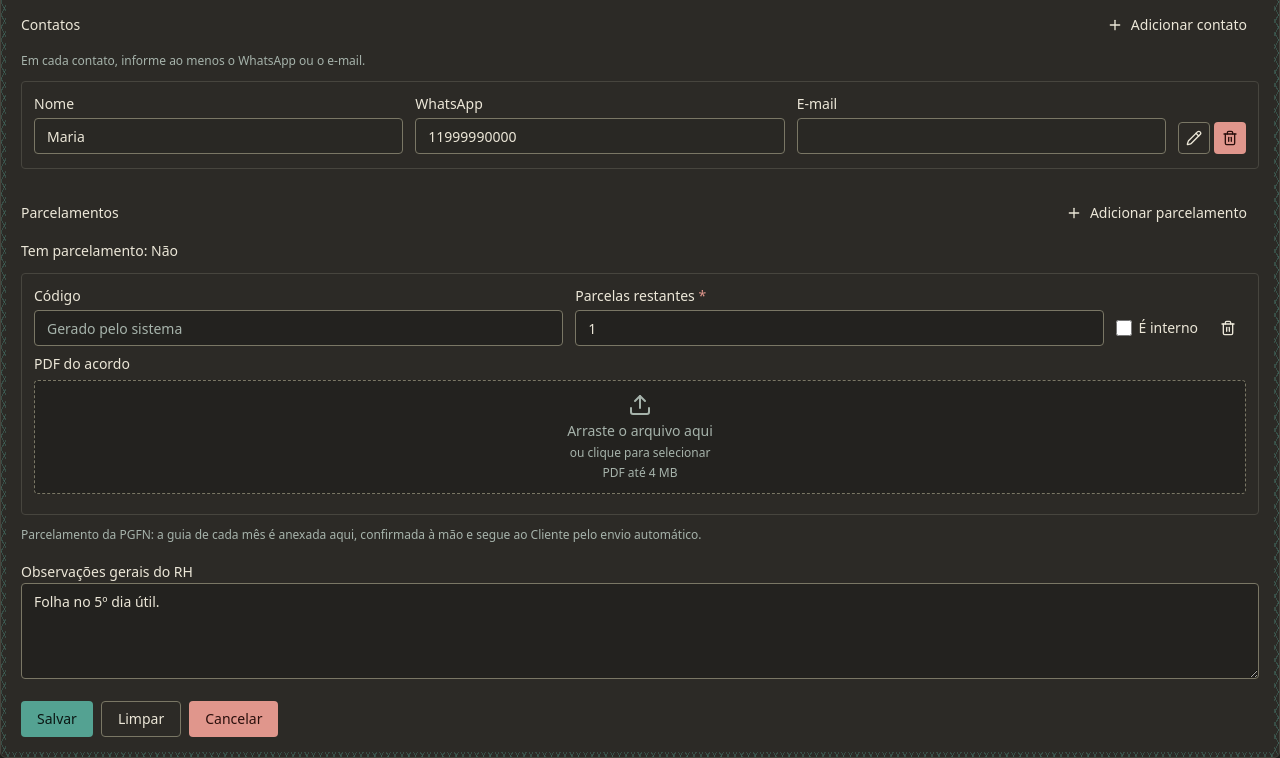
Test: EditarCadastroRhContainer › mostra a recusa do servidor e não navega
(page scrolled)
Click the button "Salvar": (57, 719) [21, 701, 93, 737]
(page scrolled)
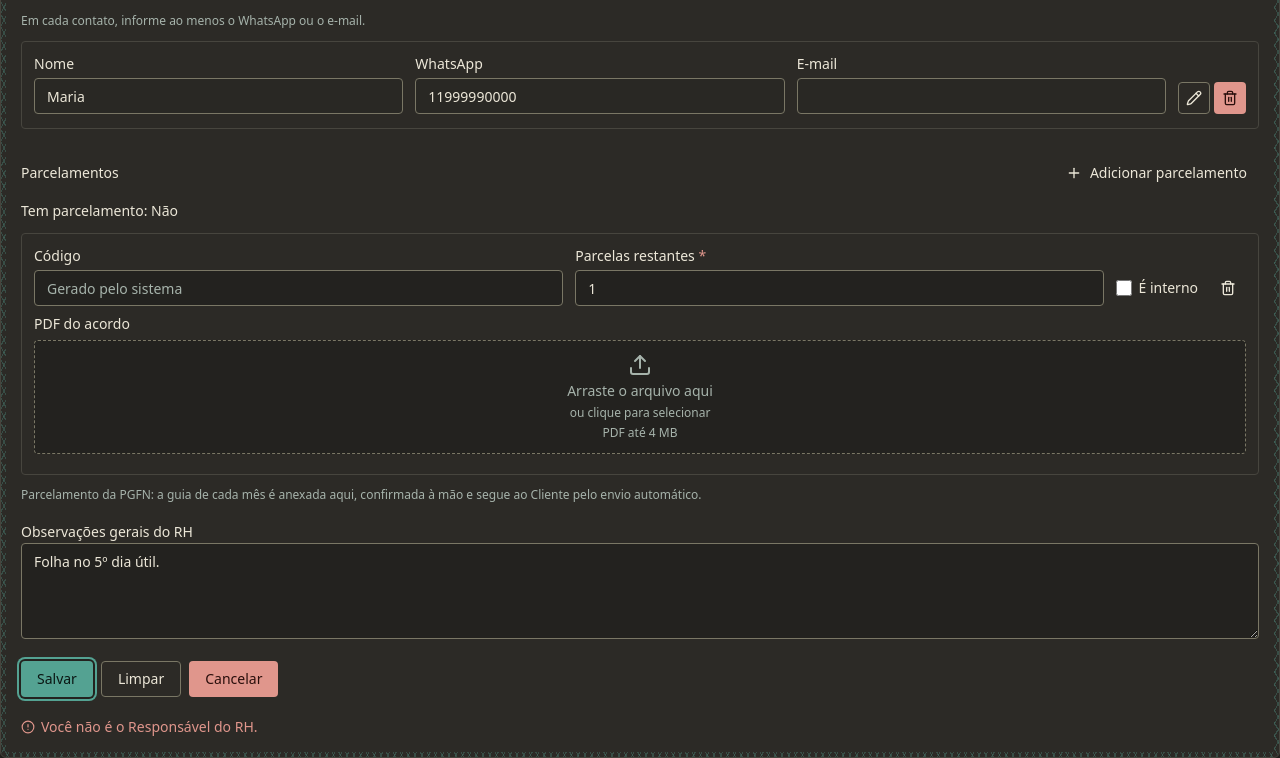
Expected: the text "Você não é o Responsável do RH." is shown, [21, 717, 258, 736]
